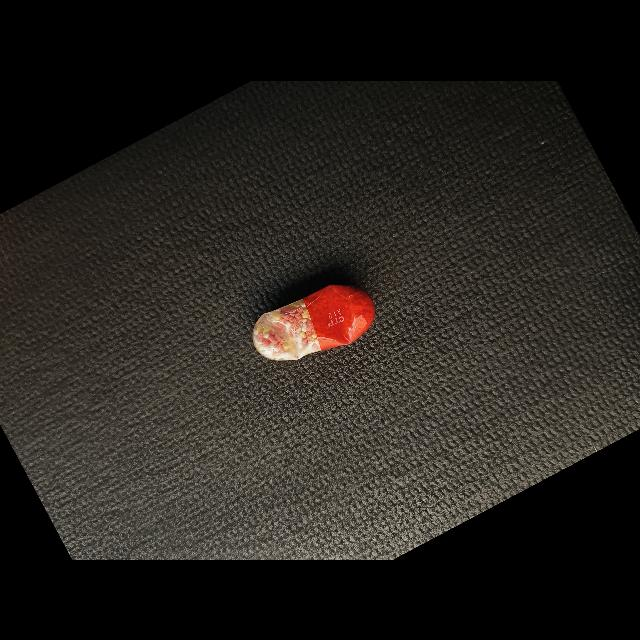Defective Capsule: (252, 284, 375, 360)
